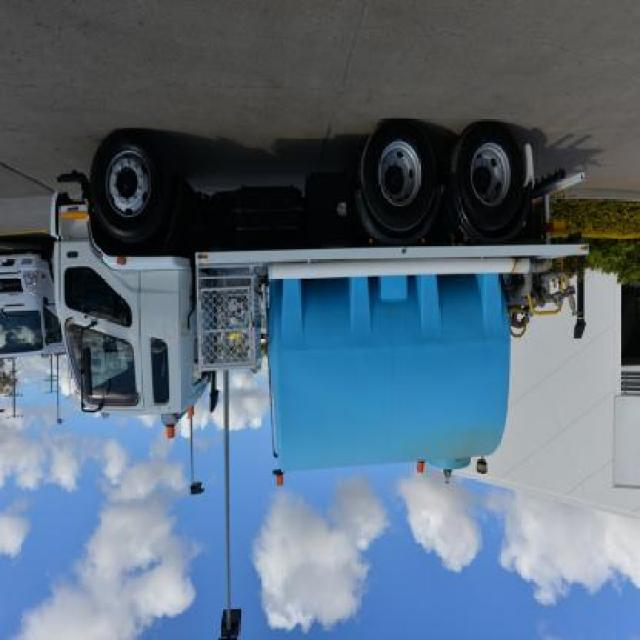truck: (49, 122, 592, 473)
